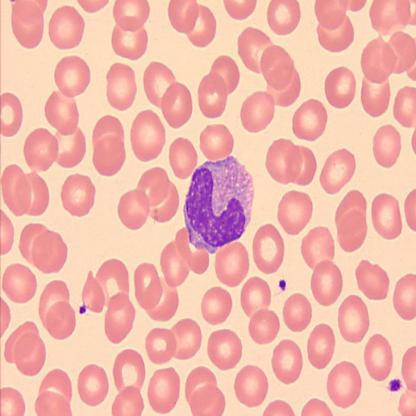Band Neutrophil: (182, 151, 257, 258)
